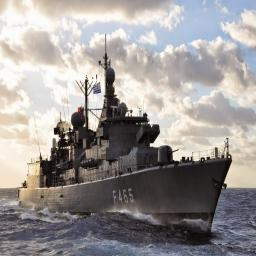Fragata: (13, 27, 236, 239)
